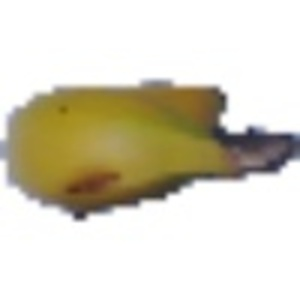banana: (1, 89, 293, 213)
